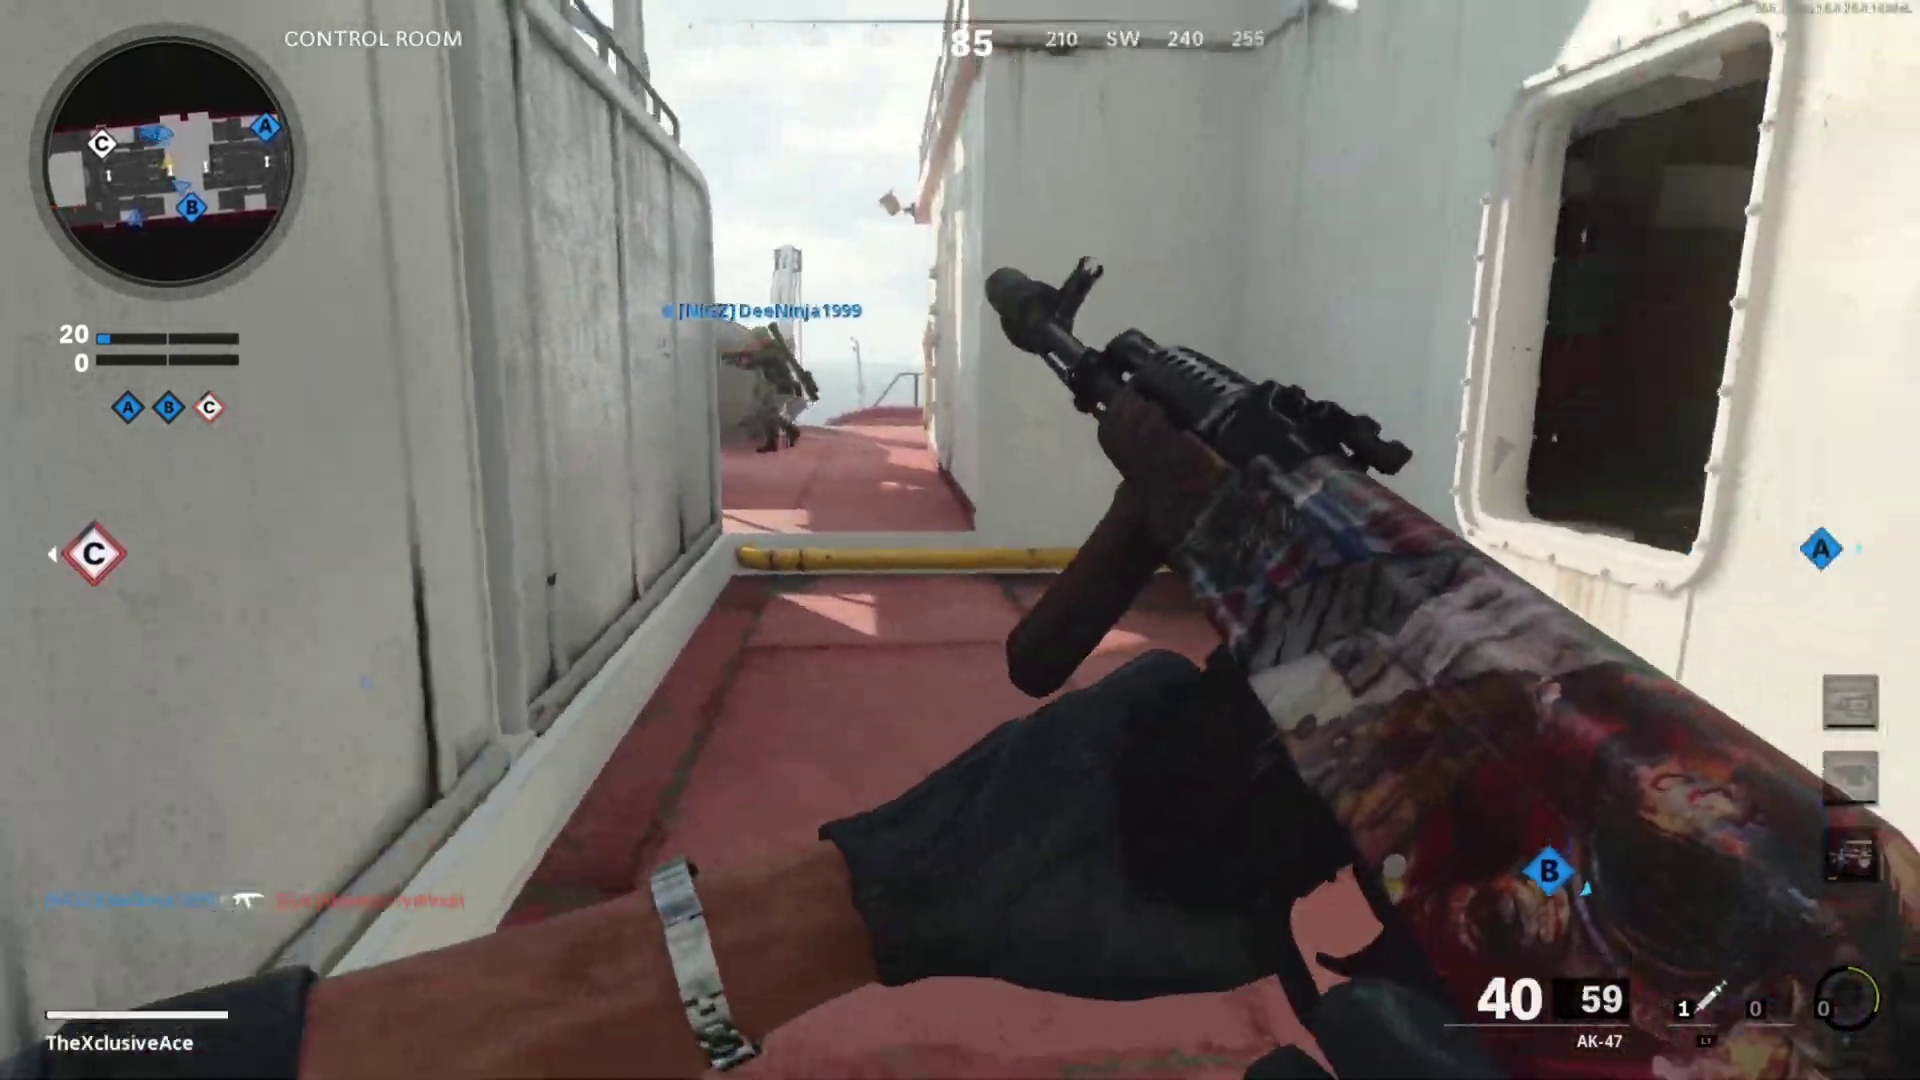head: (742, 322, 773, 356)
person: (726, 326, 814, 448)
